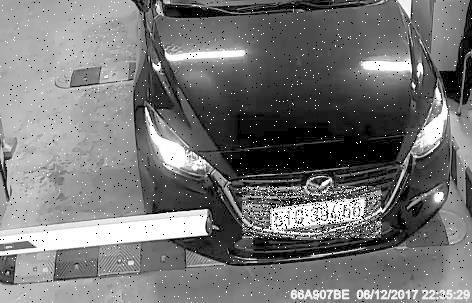License-plate: (244, 188, 384, 241)
